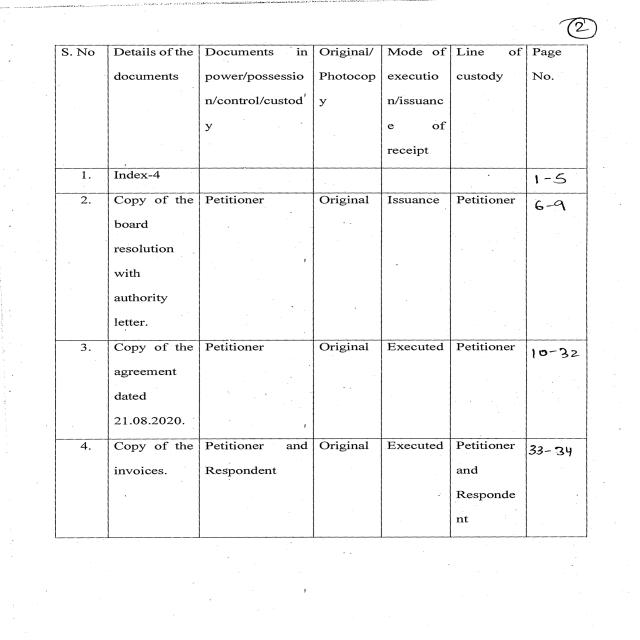page-number: (451, 0, 637, 41)
